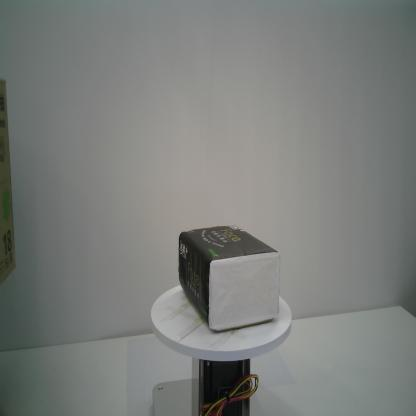Tissue: (177, 224, 282, 333)
